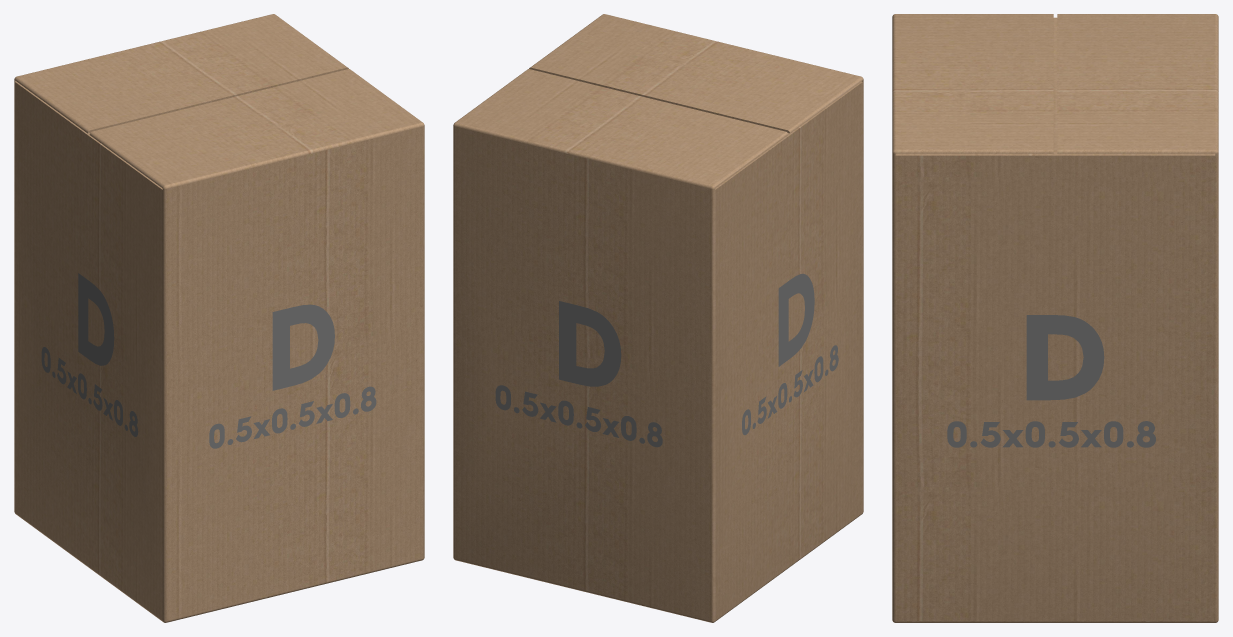
The model's file is THUNG_D.glb.
The picture shows the model from 3 angles, left to right: view 1: azimuth 30°, elevation 25°; view 2: azimuth 150°, elevation 25°; view 3: azimuth 270°, elevation 25°; orthographic projection. The views are drawn at different scales.
Parts seen in each view (by area): view 1: Geom3D (×2); view 2: Geom3D (×2); view 3: Geom3D (×2).
Boxes of the visible parts, bbox=[...] form: Geom3D (×2): bbox=[14, 14, 424, 622]; Geom3D (×2): bbox=[453, 14, 863, 622]; Geom3D (×2): bbox=[892, 14, 1218, 622].
Size of the model in its own units: 0.5 by 0.8 by 0.5.
Materials: 2 (1 with a texture image).
